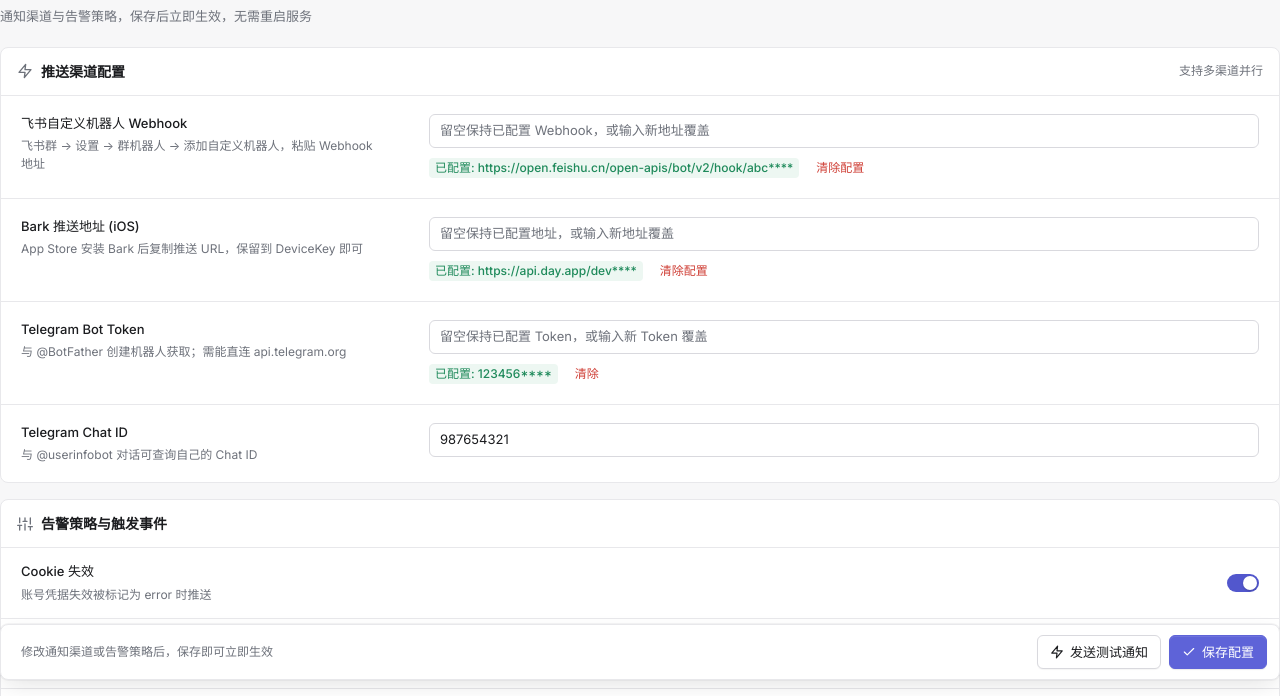
SettingsPage › 测试推送展示逐渠道结果
expect the field labelled "飞书自定义机器人 Webhook" is shown: met, box 429,114 -> 1259,148
Step 1. Click the button "发送测试通知" → [1099, 652], box 1037,635 -> 1161,669
(page scrolled)
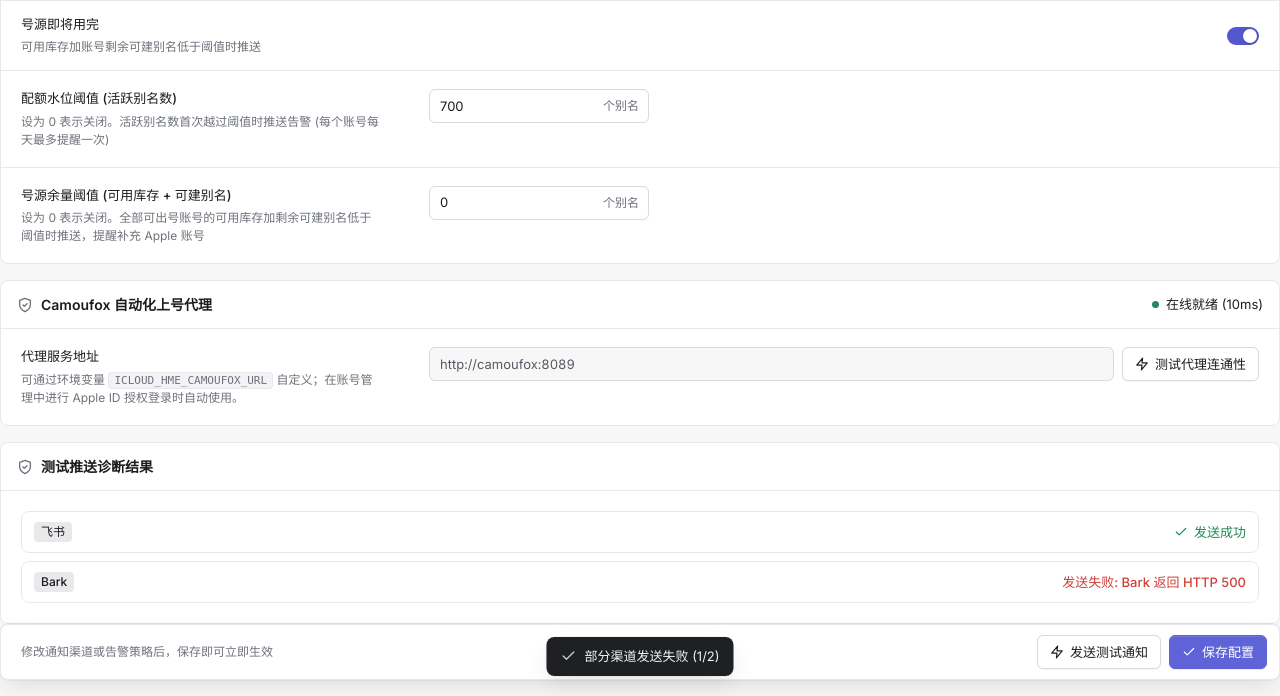
expect the text "飞书" is shown: met, box 34,522 -> 72,542
expect the text "Bark" is shown: met, box 34,572 -> 74,592
expect the text "发送失败: Bark 返回 HTTP 500" is shown: met, box 1062,573 -> 1246,592
